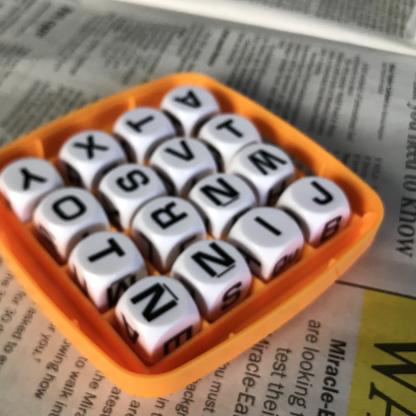a: (171, 85, 208, 116)
i: (249, 206, 292, 247)
j: (303, 180, 341, 218)
n: (126, 278, 187, 326), (188, 238, 240, 290), (198, 173, 245, 214)
o: (48, 193, 94, 227)
r: (149, 198, 190, 232)
s: (111, 166, 156, 199)
t: (86, 233, 131, 272), (121, 106, 161, 142), (212, 113, 250, 146)
v: (160, 139, 201, 168)
w: (243, 147, 294, 183)
x: (71, 130, 111, 165)
y: (4, 158, 50, 196)
